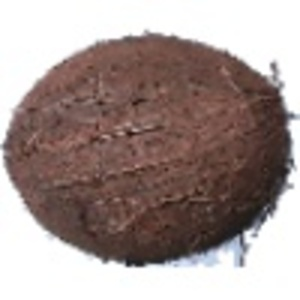coco: (1, 33, 300, 270)
